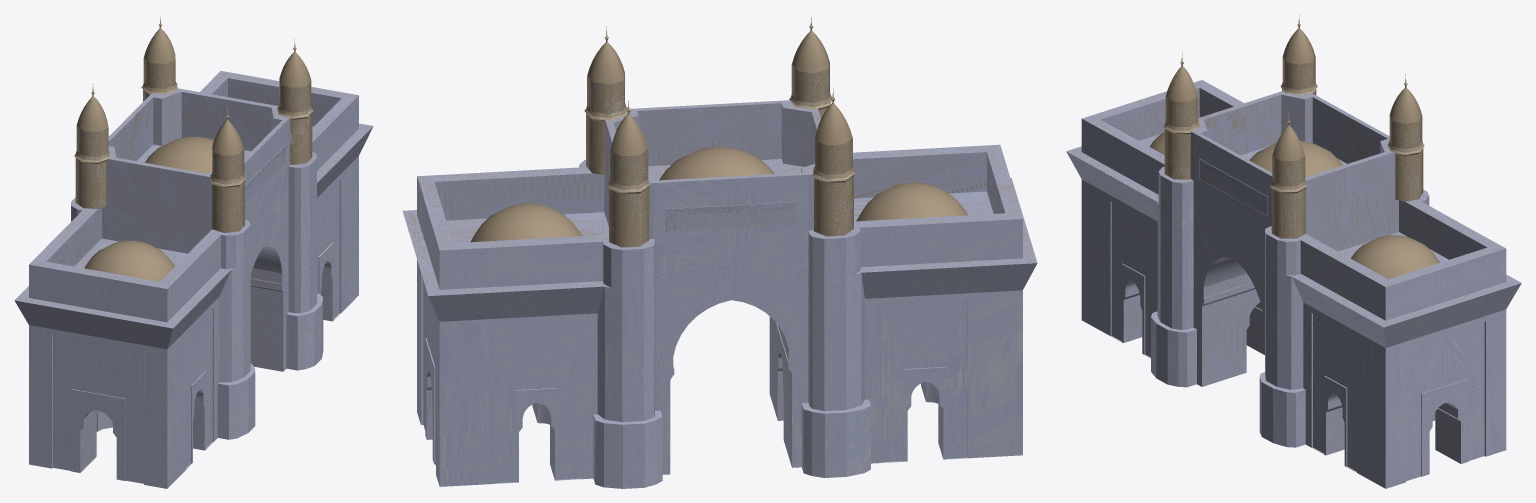
File: Gateway_of_India.fbx
The picture shows the model from 3 angles, left to right: view 1: azimuth 30°, elevation 25°; view 2: azimuth 150°, elevation 25°; view 3: azimuth 270°, elevation 25°; orthographic projection. The views are drawn at different scales.
Visible parts, largest first — view 1: Model; view 2: Model; view 3: Model.
Part boxes in pixels (x1,y1,x2,y2): Model: (14, 15, 373, 488); Model: (402, 17, 1037, 488); Model: (1066, 14, 1521, 488).
Size of the model in its own units: 45.44 by 30.99 by 39.66.
